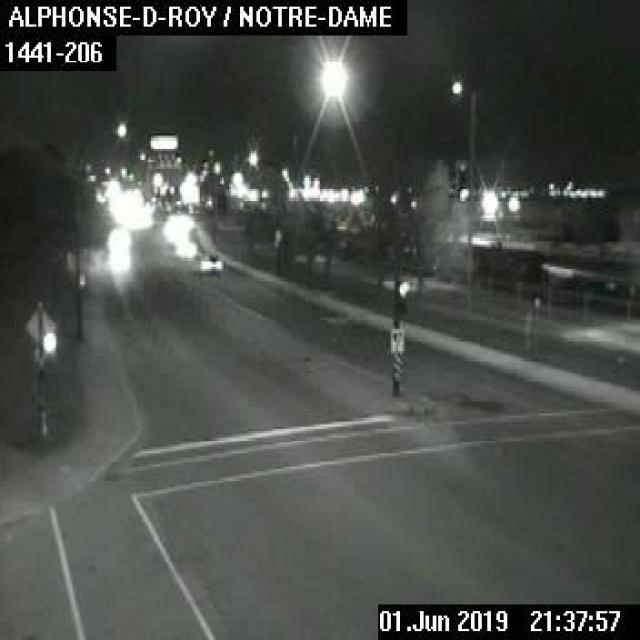vehicle: (191, 251, 224, 276)
